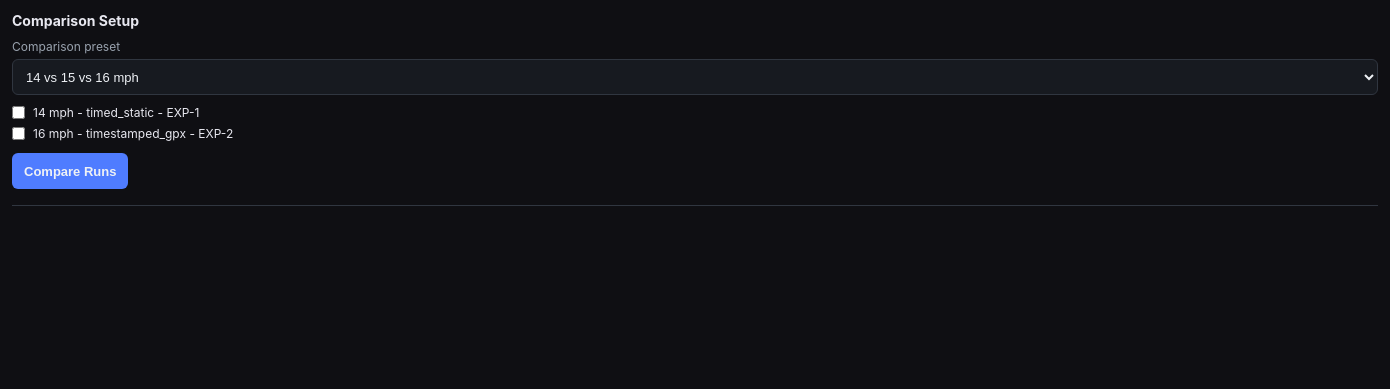
Test case: history and comparison › selects runs and displays raw counts for fewer than three comparisons
The width and height of the screenshot is (1390, 389).
Click the checkbox labelled "14 mph - timed_static - EXP-1" at (18, 112), box [12,105,25,120]
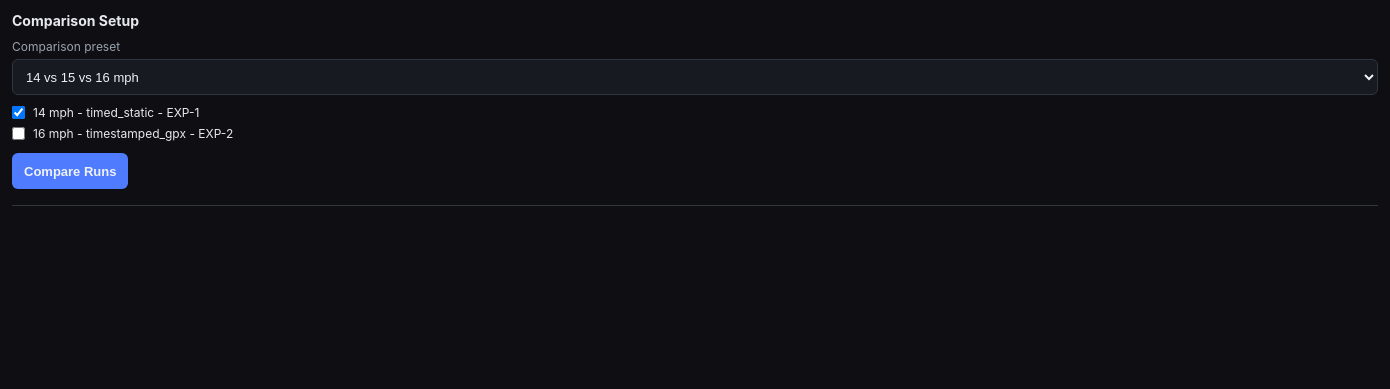
Click the checkbox labelled "16 mph - timestamped_gpx - EXP-2" at (18, 134), box [12,126,25,141]
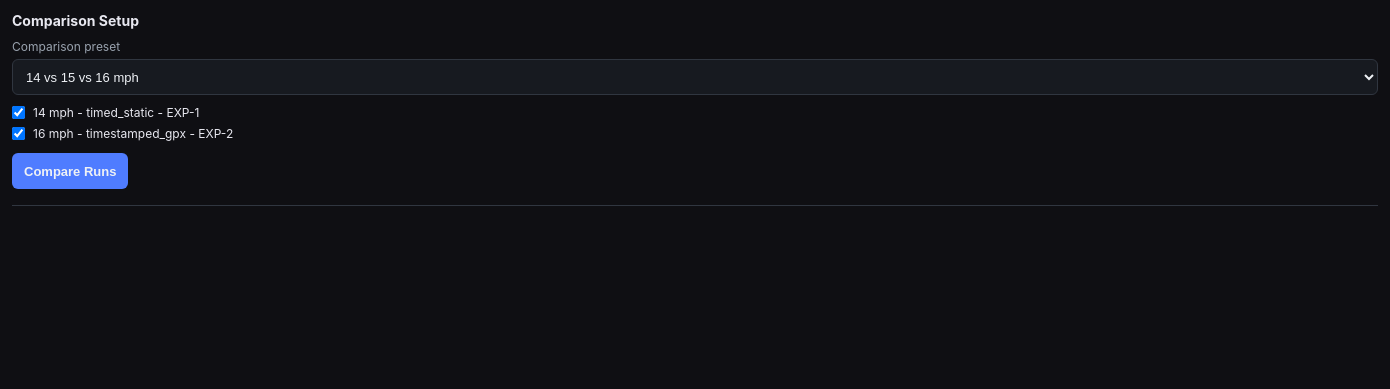
Click the button "Compare Runs" at (70, 171), box [12,153,128,189]
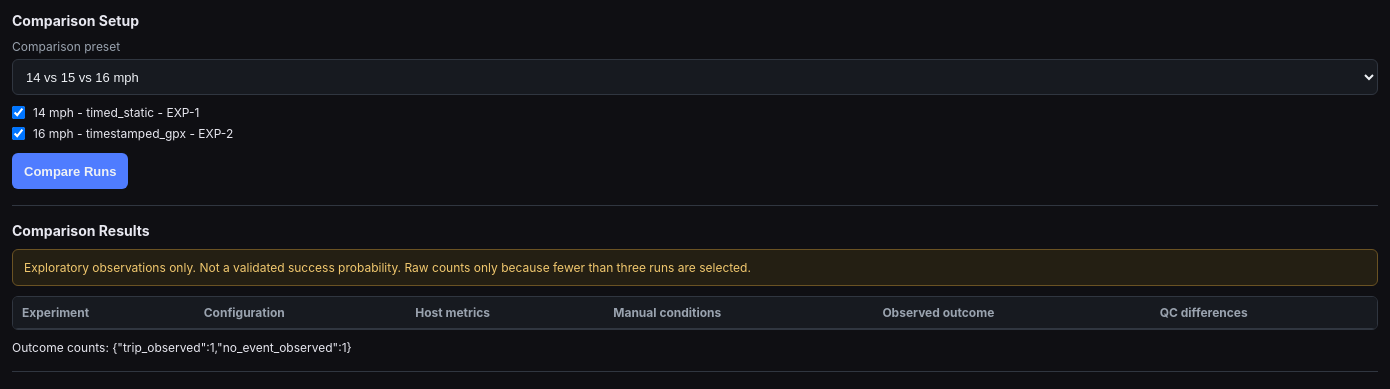
Result: the text "Raw counts only" is shown at [404,260,751,275]
